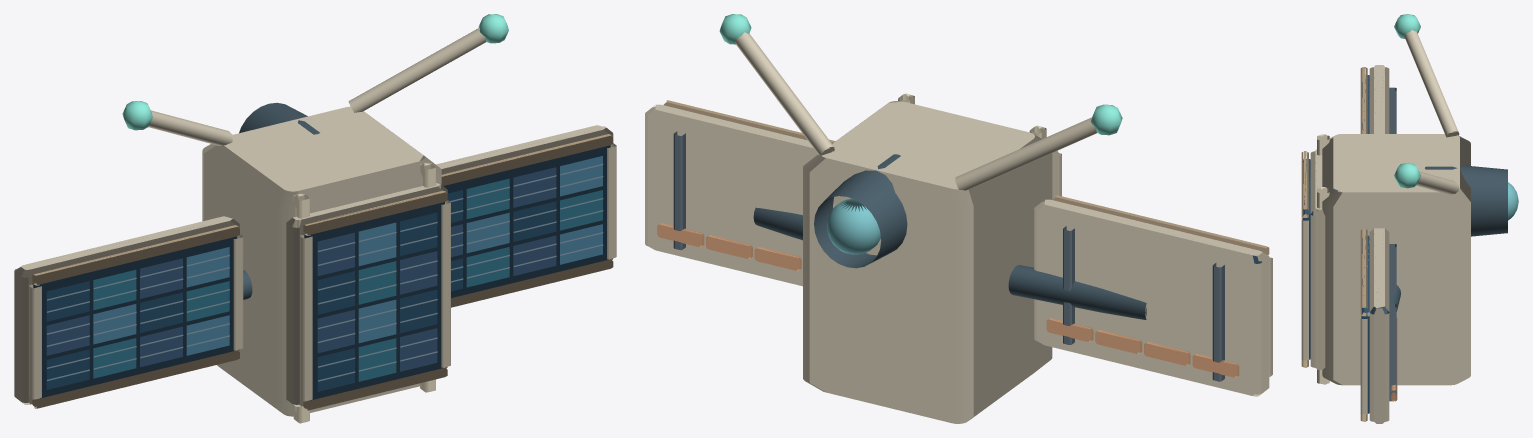
Rendered from cubesat-en-vuelo.obj.
3 renders of one model, left to right at view 1: azimuth 30°, elevation 25°; view 2: azimuth 150°, elevation 25°; view 3: azimuth 270°, elevation 25°, orthographic. The views are drawn at different scales.
Visible parts, largest first — view 1: cubesat-en-vuelo; view 2: cubesat-en-vuelo; view 3: cubesat-en-vuelo.
Part boxes in pixels (x1=…): cubesat-en-vuelo: x1=14, y1=14, x2=616, y2=423; cubesat-en-vuelo: x1=645, y1=14, x2=1272, y2=423; cubesat-en-vuelo: x1=1301, y1=14, x2=1518, y2=423.
Bounding box in the file's own units: 0.646 × 0.327 × 0.2403.
